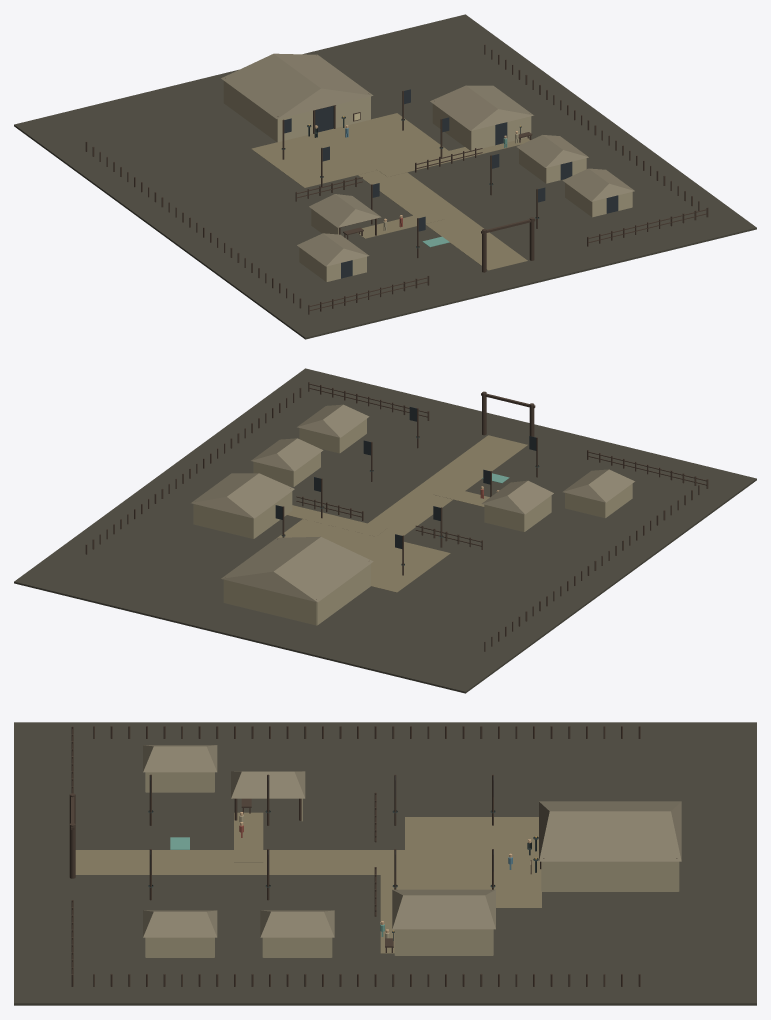
Rendered from camp-exterior.obj.
The picture shows the model from 3 angles, top to bottom: view 1: azimuth 30°, elevation 25°; view 2: azimuth 150°, elevation 25°; view 3: azimuth 270°, elevation 25°; orthographic projection. The views are drawn at different scales.
Visible parts, largest first — view 1: ground, forecourt, MAIN-roof, main-road, JIANGWEI-roof, perimeter, REPORT-roof, SUPPORT--20-37-roof, SUPPORT-20-37-roof, SUPPORT-20-25-roof, east-link, MAIN-west-wall (+8 smaller); view 2: ground, MAIN-roof, main-road, forecourt, JIANGWEI-roof, MAIN-north-wall, perimeter, REPORT-roof, SUPPORT-20-25-roof, SUPPORT-20-37-roof, SUPPORT--20-37-roof, JIANGWEI-north-wall (+12 smaller); view 3: ground, forecourt, MAIN-roof, main-road, JIANGWEI-roof, MAIN-east-wall, JIANGWEI-east-wall, perimeter, SUPPORT-20-25-roof, SUPPORT-20-37-roof, SUPPORT--20-37-roof, REPORT-roof (+8 smaller).
Boxes of the visible parts, box(x1,y1,x2,y2) form: ground: box(14, 14, 756, 339); forecourt: box(251, 113, 448, 187); MAIN-roof: box(221, 53, 373, 119); main-road: box(358, 170, 527, 270); JIANGWEI-roof: box(430, 85, 533, 130); perimeter: box(85, 44, 699, 308); REPORT-roof: box(309, 194, 381, 227); SUPPORT--20-37-roof: box(297, 233, 369, 266); SUPPORT-20-37-roof: box(562, 168, 634, 201); SUPPORT-20-25-roof: box(516, 135, 588, 167); east-link: box(376, 137, 529, 176); MAIN-west-wall: box(223, 81, 277, 142); ground: box(14, 368, 756, 693); MAIN-roof: box(221, 536, 373, 602); main-road: box(368, 435, 527, 539); forecourt: box(277, 519, 450, 592); JIANGWEI-roof: box(191, 473, 294, 518); MAIN-north-wall: box(223, 579, 316, 625); perimeter: box(85, 387, 699, 651); REPORT-roof: box(481, 480, 553, 514); SUPPORT-20-25-roof: box(251, 438, 323, 471); SUPPORT-20-37-roof: box(297, 404, 369, 437); SUPPORT--20-37-roof: box(563, 469, 634, 502); JIANGWEI-north-wall: box(193, 504, 253, 538); ground: box(14, 722, 756, 1005); forecourt: box(405, 817, 541, 907); MAIN-roof: box(539, 801, 681, 861); main-road: box(75, 850, 404, 874); JIANGWEI-roof: box(392, 889, 495, 929); MAIN-east-wall: box(542, 861, 678, 891); JIANGWEI-east-wall: box(395, 929, 492, 955); perimeter: box(93, 726, 640, 986); SUPPORT-20-25-roof: box(260, 910, 334, 937); SUPPORT-20-37-roof: box(143, 910, 217, 937); SUPPORT--20-37-roof: box(143, 745, 217, 772); REPORT-roof: box(231, 771, 305, 798).
Size of the model in its own units: 68 by 6.28 by 76.
